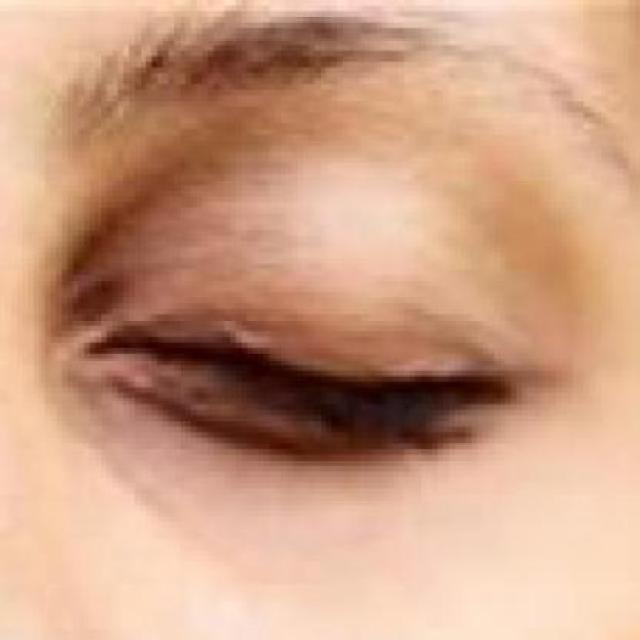drowsy: (76, 273, 504, 476)
